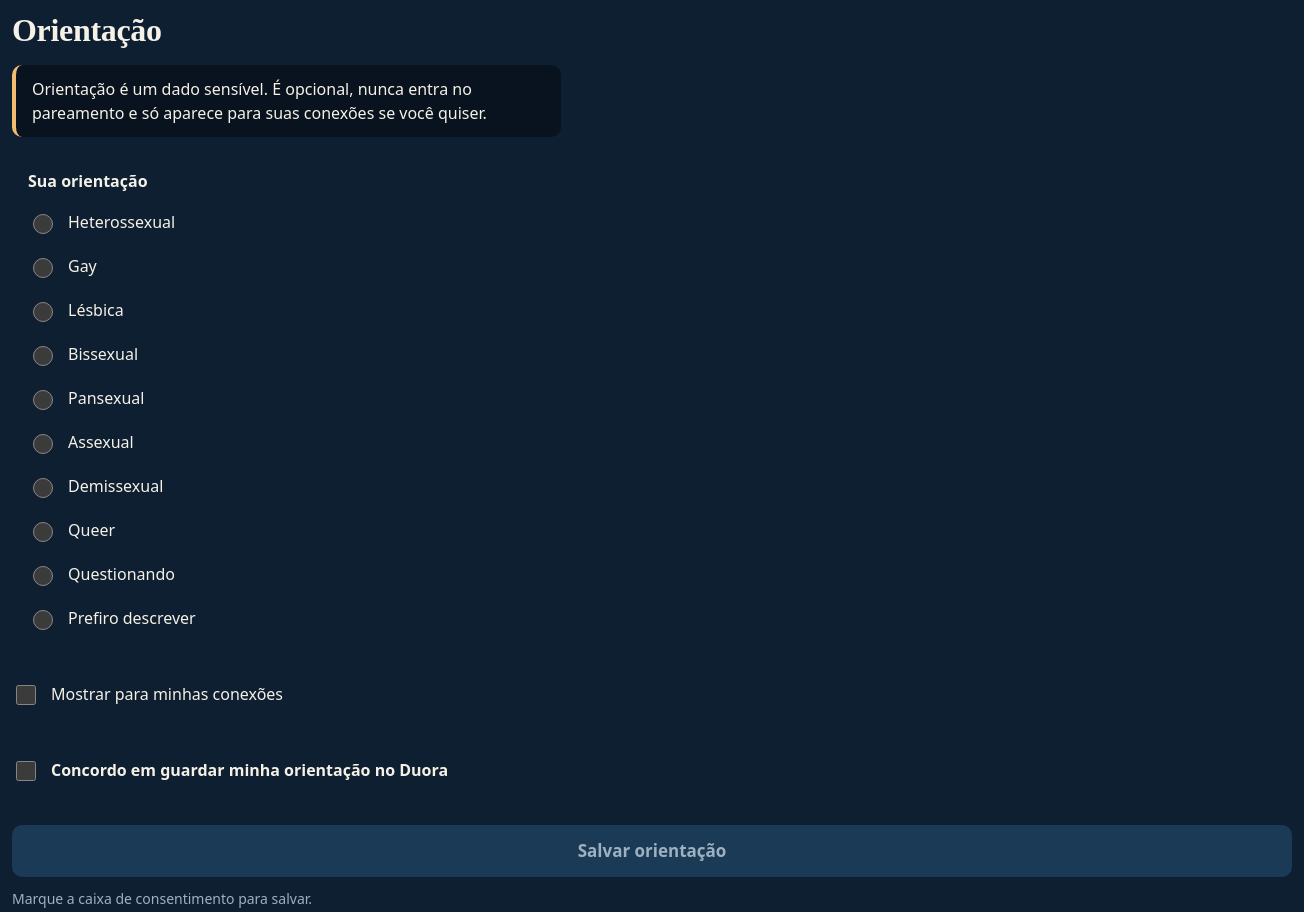
Test case: Orientacao › orientacaoPedeConsentimento
Click the radio button labelled "Gay".
click(43, 268)  # box [33, 258, 53, 278]
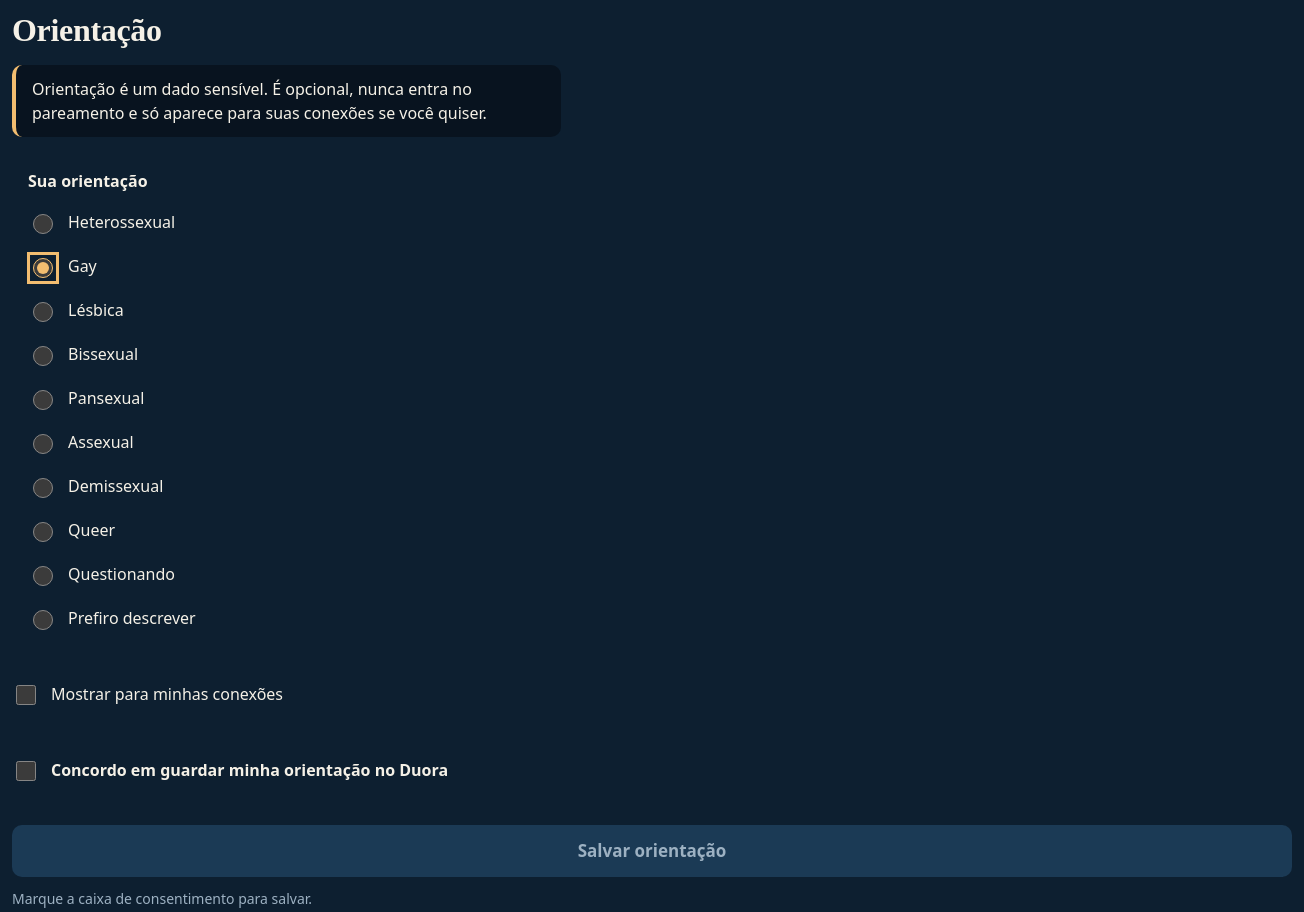
Click the button "Salvar orientação".
click(652, 851)  # box [12, 825, 1292, 877]
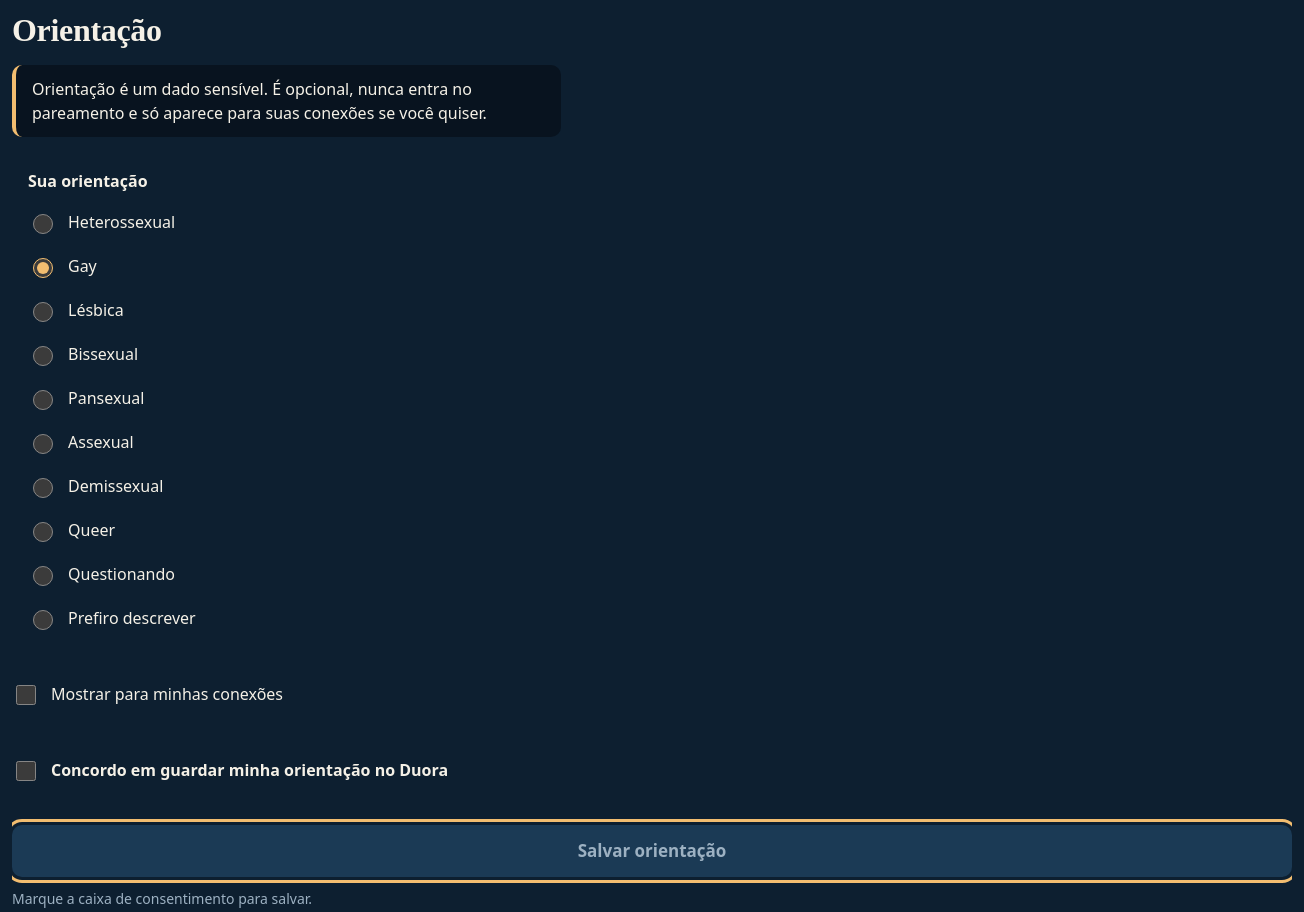
Click the checkbox labelled "Concordo em guardar minha orientação no Duora".
click(26, 771)  # box [16, 761, 36, 781]
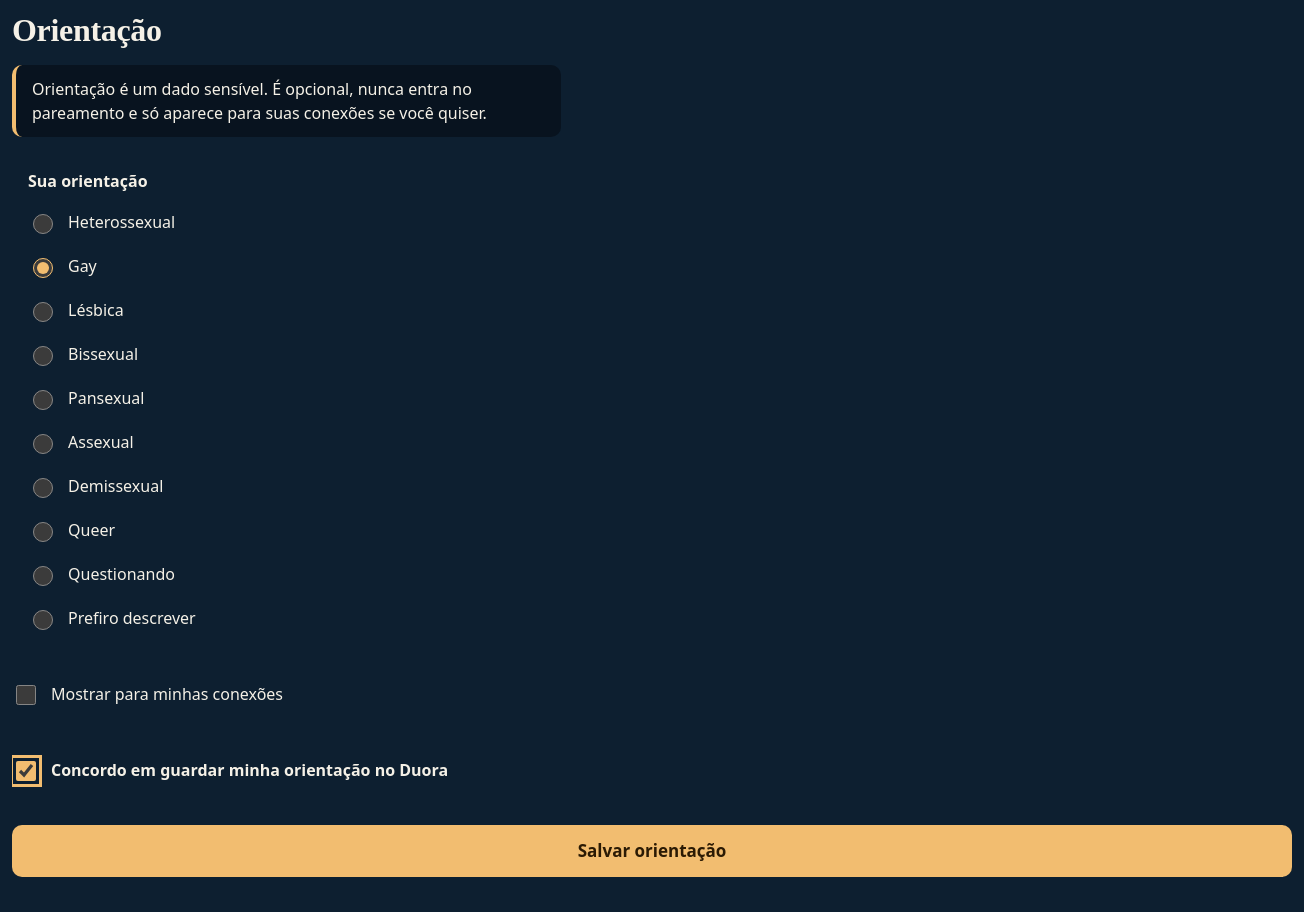
expect the text "Marque a caixa de consentimento para salvar." is gone: met
